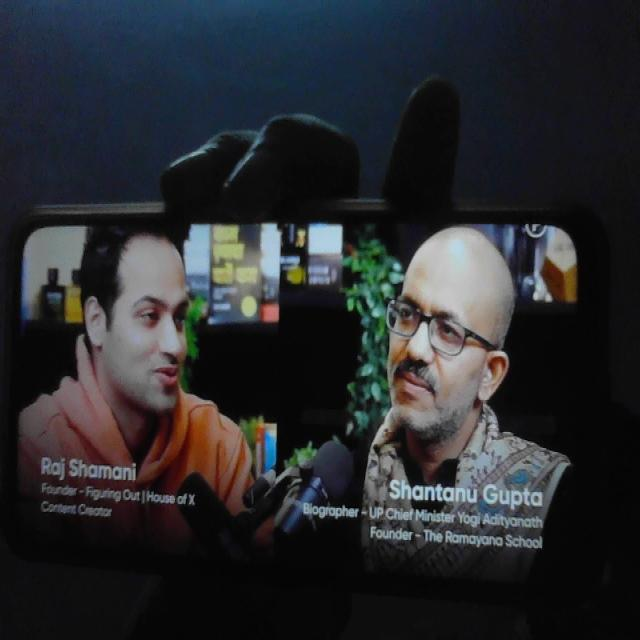fake: (81, 189, 204, 423)
